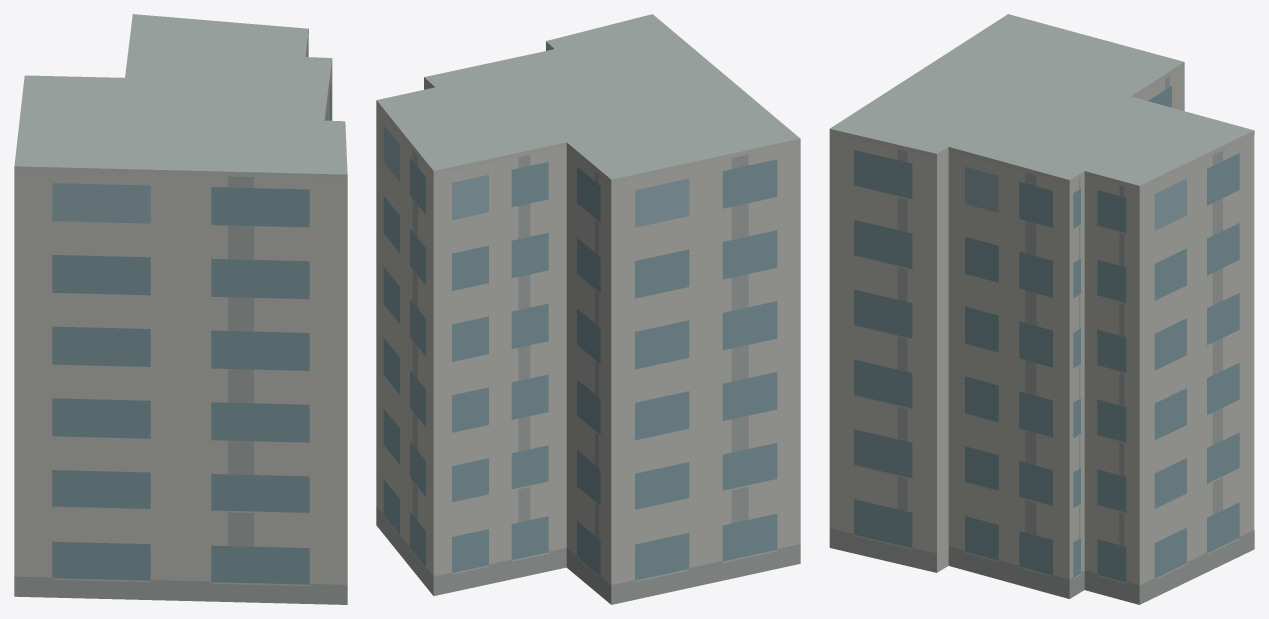
File: survey-upis-32835862.glb
3 renders of one model, left to right at view 1: azimuth 30°, elevation 25°; view 2: azimuth 150°, elevation 25°; view 3: azimuth 270°, elevation 25°, orthographic. The views are drawn at different scales.
Visible parts, largest first — view 1: survey-upis-32835862.tmp; view 2: survey-upis-32835862.tmp; view 3: survey-upis-32835862.tmp.
Part boxes in pixels (bbox=[...]): survey-upis-32835862.tmp: bbox=[14, 14, 347, 604]; survey-upis-32835862.tmp: bbox=[376, 14, 800, 604]; survey-upis-32835862.tmp: bbox=[829, 14, 1254, 604].
Bounding box in the file's own units: 19.18 × 21.79 × 20.03.
